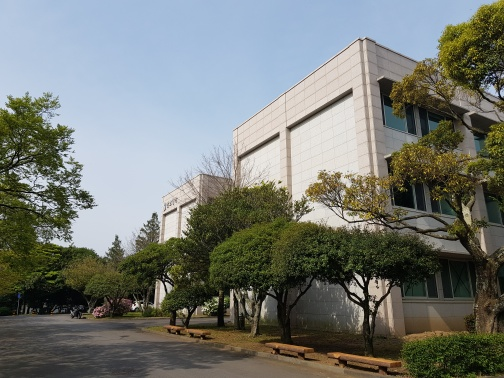College of Nursing: (230, 52, 491, 334), (156, 166, 216, 312)
